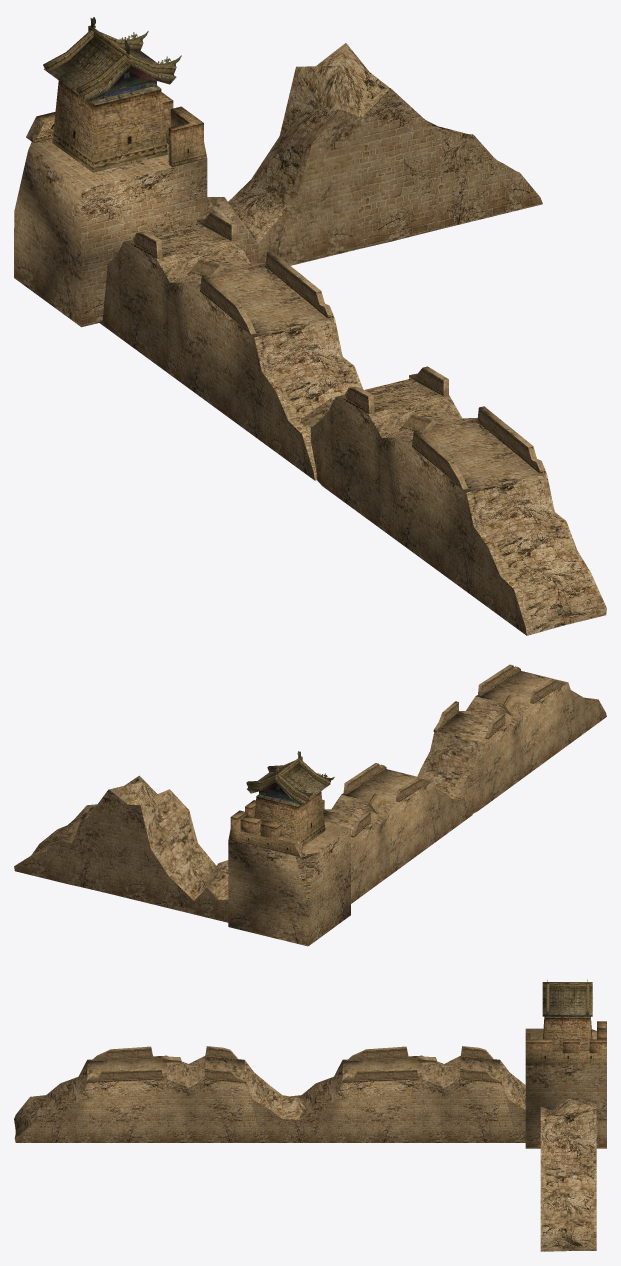
Rendered from w_cd_castle_wall07.glb.
The picture shows the model from 3 angles, top to bottom: view 1: azimuth 30°, elevation 25°; view 2: azimuth 150°, elevation 25°; view 3: azimuth 270°, elevation 25°; orthographic projection. The views are drawn at different scales.
Parts seen in each view (by area): view 1: w_cd_castle_wall07; view 2: w_cd_castle_wall07; view 3: w_cd_castle_wall07.
Part boxes in pixels (bbox=[...]): w_cd_castle_wall07: bbox=[14, 25, 606, 635]; w_cd_castle_wall07: bbox=[14, 664, 606, 946]; w_cd_castle_wall07: bbox=[14, 982, 606, 1251].
Bounding box in the file's own units: 41.77 × 21.91 × 75.13.
Materials: 5 (5 with a texture image).
